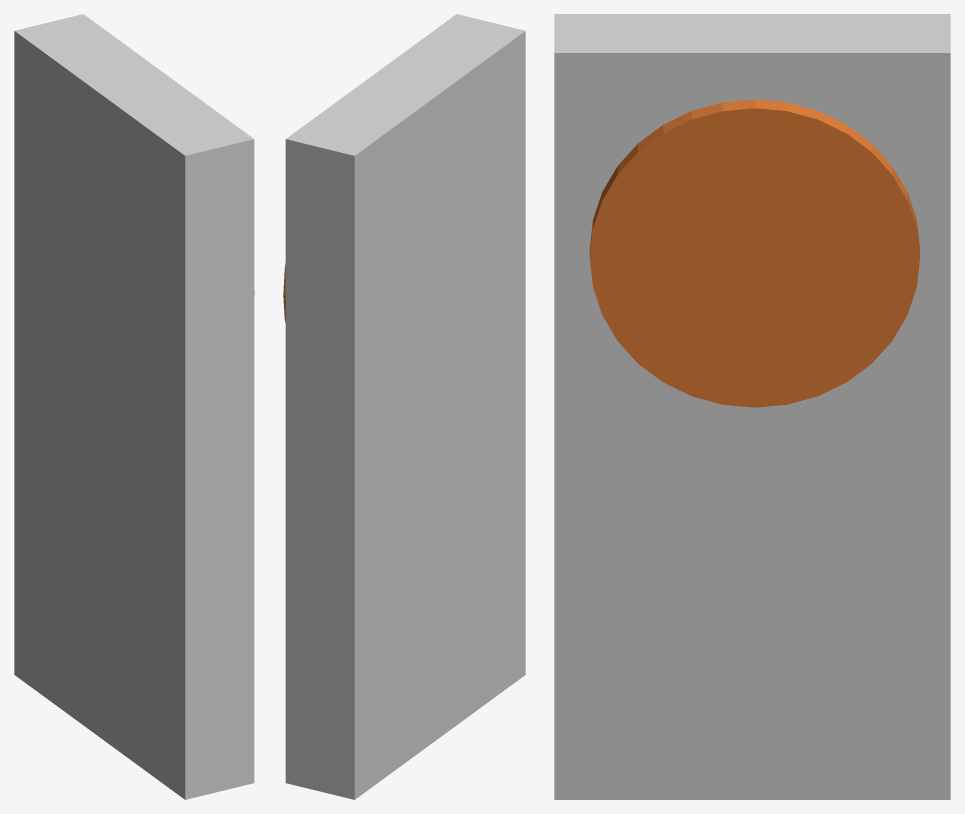
Rendered from target.dae.
3 views of the same model, side by side, from view 1: azimuth 30°, elevation 25°; view 2: azimuth 150°, elevation 25°; view 3: azimuth 270°, elevation 25° (orthographic). The views are drawn at different scales.
Visible parts, largest first — view 1: Cube; view 2: Cube; view 3: Cube, Cylinder.
Part boxes in pixels (<box>): Cube: <box>14,14,254,799</box>; Cube: <box>285,14,525,799</box>; Cube: <box>554,14,950,799</box>; Cylinder: <box>589,99,919,407</box>.
Bounding box in the file's own units: 0.5718 × 2 × 4.16.
